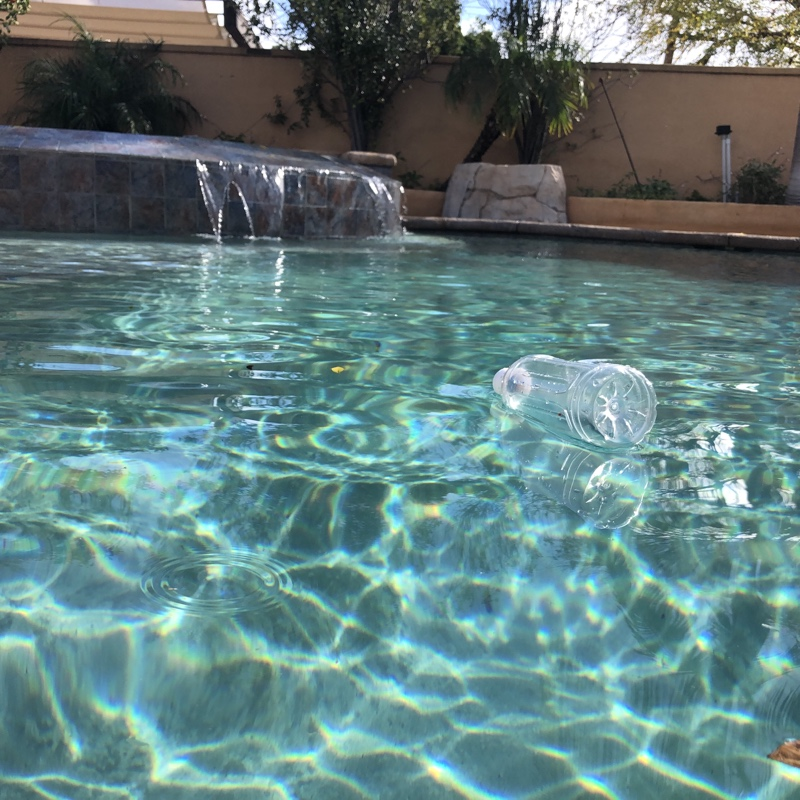Plastic Bottle: (486, 350, 662, 448)
